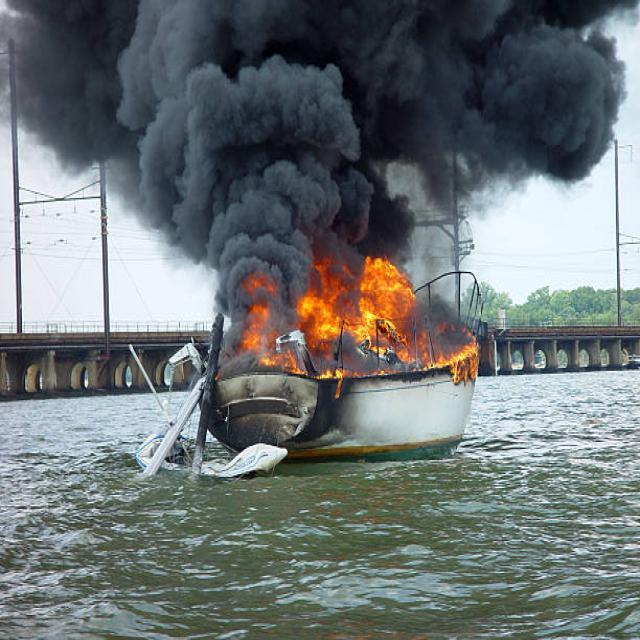Fire: (234, 256, 438, 394)
Smoke: (10, 0, 640, 188), (168, 156, 446, 285)
